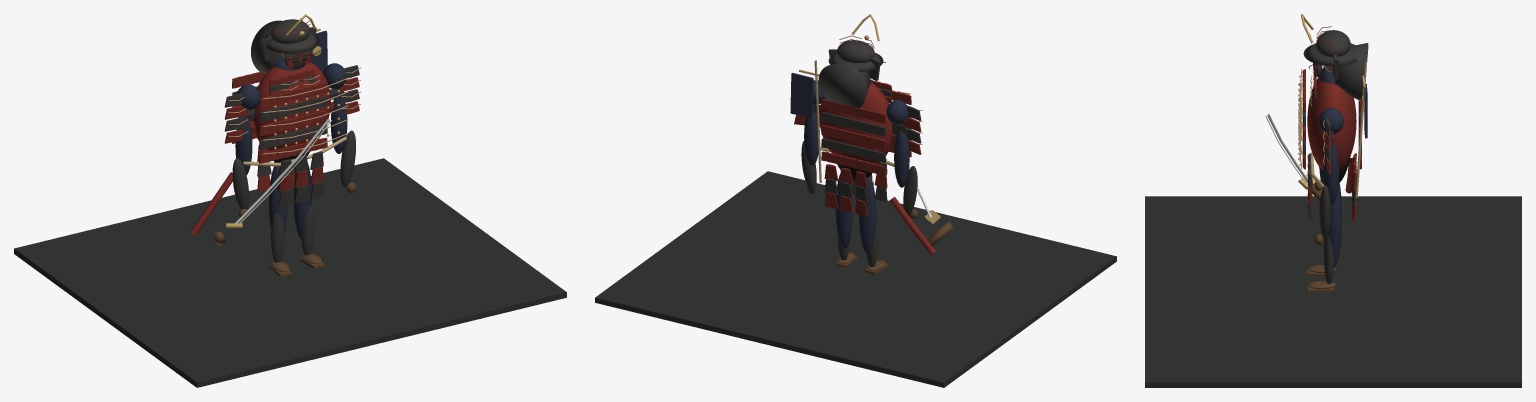
File: actor-takeda-01.glb
The picture shows the model from 3 angles, left to right: view 1: azimuth 30°, elevation 25°; view 2: azimuth 150°, elevation 25°; view 3: azimuth 270°, elevation 25°; orthographic projection. The views are drawn at different scales.
Visible parts, largest first — view 1: matte charcoal inspection plinth, rounded do cuirass silhouette, rear shikoro neck guard flare, segmented kabuto helmet bowl, right armored upper arm, right kote forearm guard, left kote forearm guard, wide kabuto brim, left hakama trouser leg, right hakama trouser leg, left armored upper arm, left shin greave (+2 smaller); view 2: matte charcoal inspection plinth, rear shikoro neck guard flare, rounded do cuirass silhouette, cloth sashimono banner panel, left hakama trouser leg, left armored upper arm, segmented kabuto helmet bowl, right hakama trouser leg, right armored upper arm, left kote forearm guard, lacquered saya scabbard at left hip; view 3: matte charcoal inspection plinth, rounded do cuirass silhouette, rear shikoro neck guard flare, segmented kabuto helmet bowl, right hakama trouser leg, wide kabuto brim, right armored upper arm, right kote forearm guard, right shoulder undercloth, right shin greave, bamboo sashimono back pole.
Boxes of the visible parts, x1,y1,x2,y2 form: matte charcoal inspection plinth: (14,158,566,387); rounded do cuirass silhouette: (252,62,330,151); rear shikoro neck guard flare: (251,20,283,74); segmented kabuto helmet bowl: (270,19,310,43); right armored upper arm: (330,93,347,153); right kote forearm guard: (340,130,355,186); left kote forearm guard: (232,158,248,209); wide kabuto brim: (261,33,319,53); left hakama trouser leg: (269,166,287,234); right hakama trouser leg: (293,163,311,239); left armored upper arm: (235,116,252,174); left shin greave: (271,213,284,262); matte charcoal inspection plinth: (595,171,1116,387); rear shikoro neck guard flare: (818,61,870,108); rounded do cuirass silhouette: (819,82,893,164); cloth sashimono banner panel: (790,72,813,118); left hakama trouser leg: (859,176,876,253); left armored upper arm: (894,130,909,187); segmented kabuto helmet bowl: (837,40,874,62); right hakama trouser leg: (835,173,852,248); right armored upper arm: (804,110,819,165); left kote forearm guard: (903,166,917,215); lacquered saya scabbard at left hip: (889,197,935,254); matte charcoal inspection plinth: (1145,196,1521,387); rounded do cuirass silhouette: (1307,76,1356,170); rear shikoro neck guard flare: (1335,43,1368,99); segmented kabuto helmet bowl: (1316,30,1350,56); right hakama trouser leg: (1328,189,1341,267); wide kabuto brim: (1303,43,1356,66); right armored upper arm: (1323,142,1339,204); right kote forearm guard: (1319,185,1330,238); right shoulder undercloth: (1319,108,1343,134); right shin greave: (1324,235,1334,283); bamboo sashimono back pole: (1355,61,1367,197).
Size of the model in its own units: 4.2 by 2.96 by 3.6.
